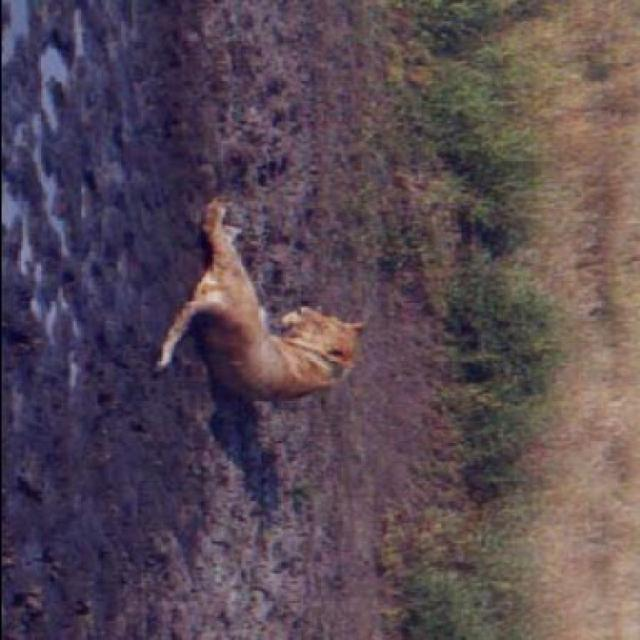Lion: (114, 186, 371, 429)
